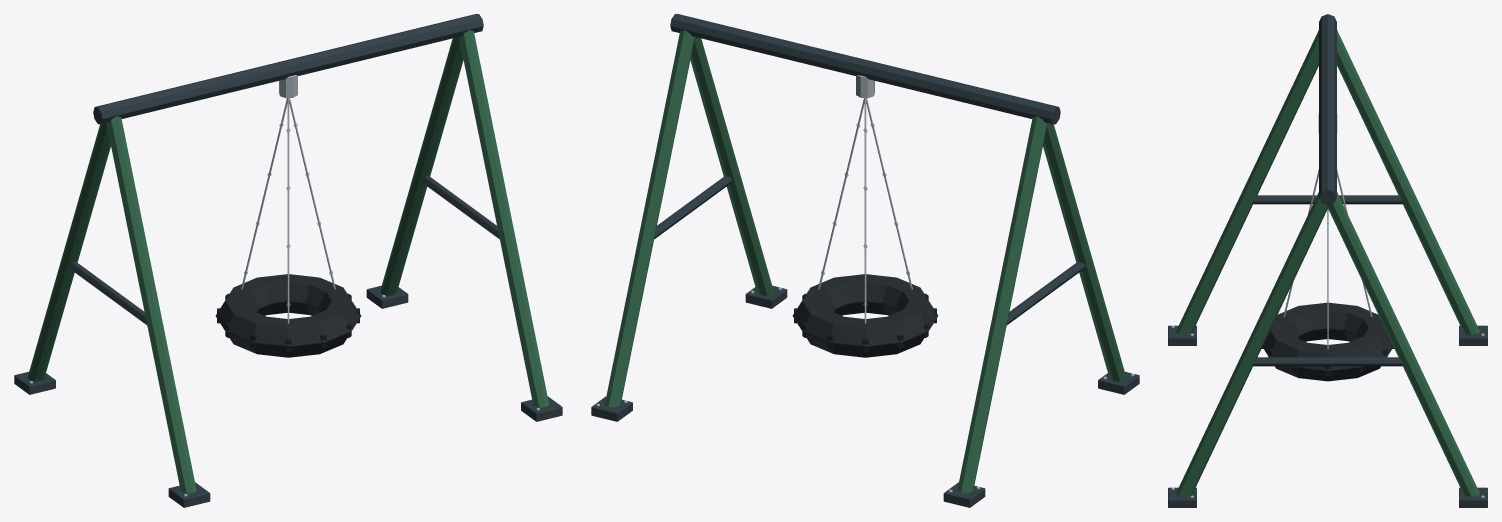
The model's file is b09_tire_swing.glb.
3 views of the same model, side by side, from view 1: azimuth 30°, elevation 25°; view 2: azimuth 150°, elevation 25°; view 3: azimuth 270°, elevation 25° (orthographic). The views are drawn at different scales.
Parts seen in each view (by area): view 1: b09_tire_swing; view 2: b09_tire_swing; view 3: b09_tire_swing.
Part boxes in pixels (bbox=[...]): b09_tire_swing: bbox=[14, 14, 562, 507]; b09_tire_swing: bbox=[591, 14, 1139, 507]; b09_tire_swing: bbox=[1168, 14, 1487, 507].
Size of the model in its own units: 3.14 by 2.67 by 2.42.
